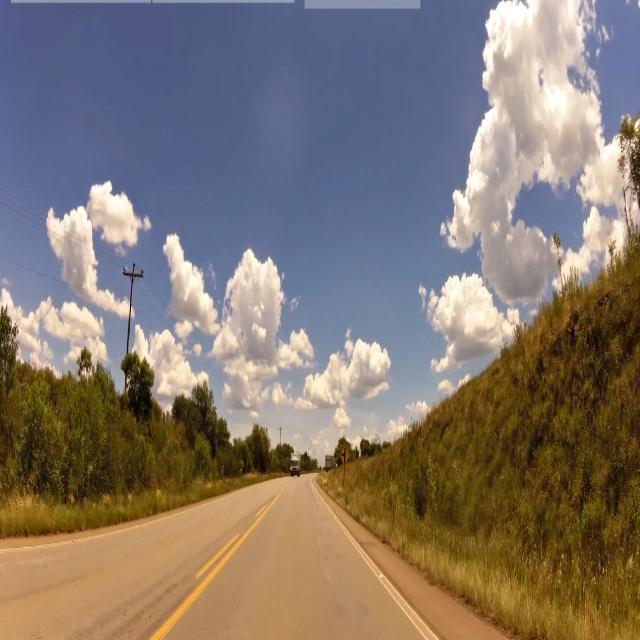A-7a: (341, 445, 349, 465)
